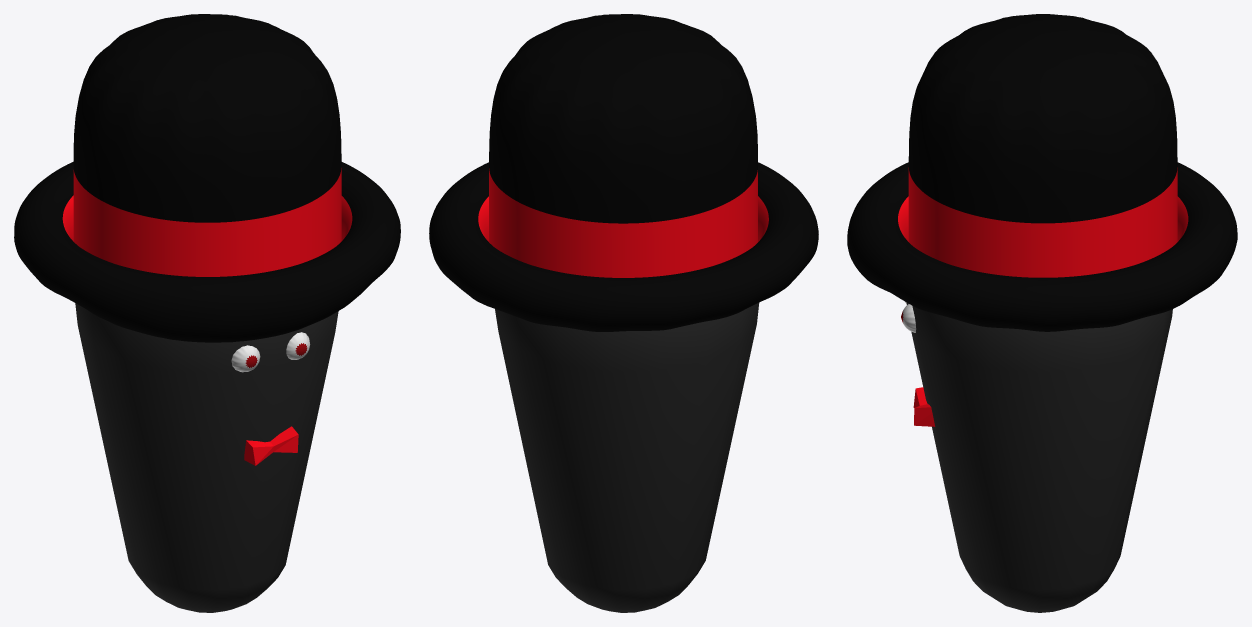
Rendered from Bulby.fbx.
3 views of the same model, side by side, from view 1: azimuth 30°, elevation 25°; view 2: azimuth 150°, elevation 25°; view 3: azimuth 270°, elevation 25° (orthographic).
Parts seen in each view (by area): view 1: Bulb Hat, Bulb Body, Bulb Eyes, Bow Tie; view 2: Bulb Hat, Bulb Body; view 3: Bulb Hat, Bulb Body, Bow Tie.
Boxes of the visible parts, bbox=[...] form: Bulb Hat: bbox=[14, 14, 400, 342]; Bulb Body: bbox=[75, 303, 338, 612]; Bulb Eyes: bbox=[231, 332, 310, 372]; Bow Tie: bbox=[244, 426, 298, 465]; Bulb Hat: bbox=[429, 14, 818, 331]; Bulb Body: bbox=[495, 302, 759, 612]; Bulb Hat: bbox=[847, 14, 1237, 331]; Bulb Body: bbox=[906, 302, 1172, 612]; Bow Tie: bbox=[913, 387, 935, 426].
Size of the model in its own units: 289 by 468 by 290.
